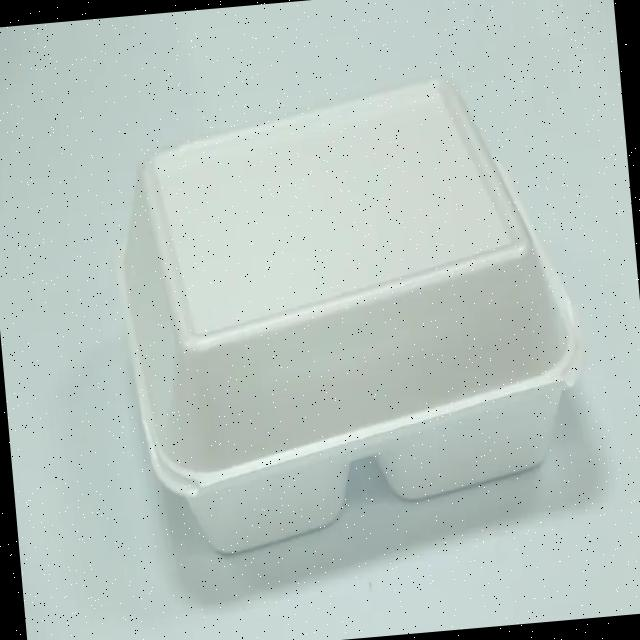styrofoam: (103, 62, 598, 562)
